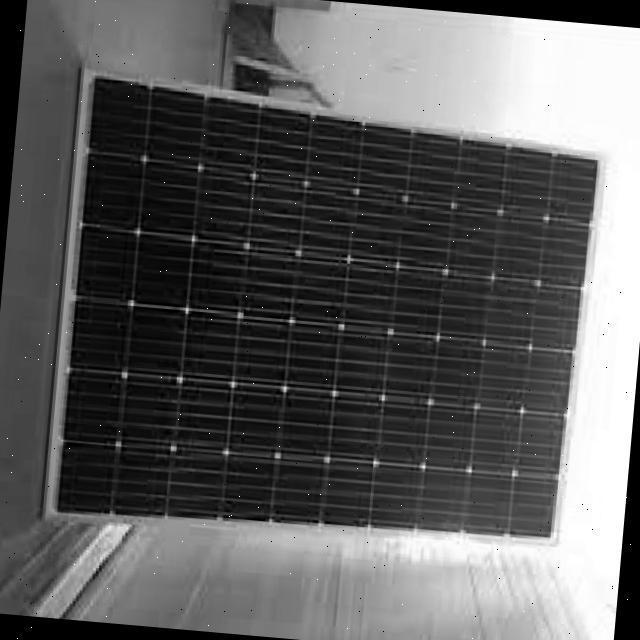Normal Solar Panel: (45, 67, 602, 562)
